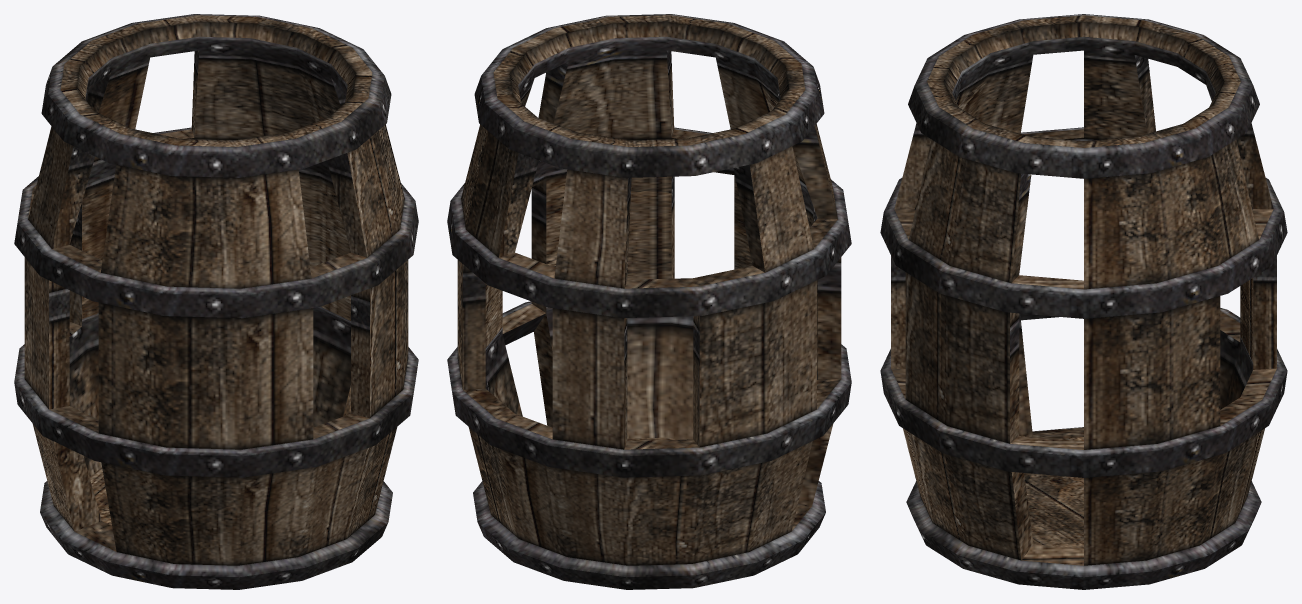
File: desert_ruins_barrel.fbx
The picture shows the model from 3 angles, left to right: view 1: azimuth 30°, elevation 25°; view 2: azimuth 150°, elevation 25°; view 3: azimuth 270°, elevation 25°; orthographic projection.
Parts seen in each view (by area): view 1: Mesh; view 2: Mesh; view 3: Mesh.
Part boxes in pixels (box(x1,y1,x2,y2)): Mesh: box(14, 14, 418, 589); Mesh: box(447, 14, 851, 589); Mesh: box(880, 14, 1287, 589).
Size of the model in its own units: 131 by 156 by 131.
